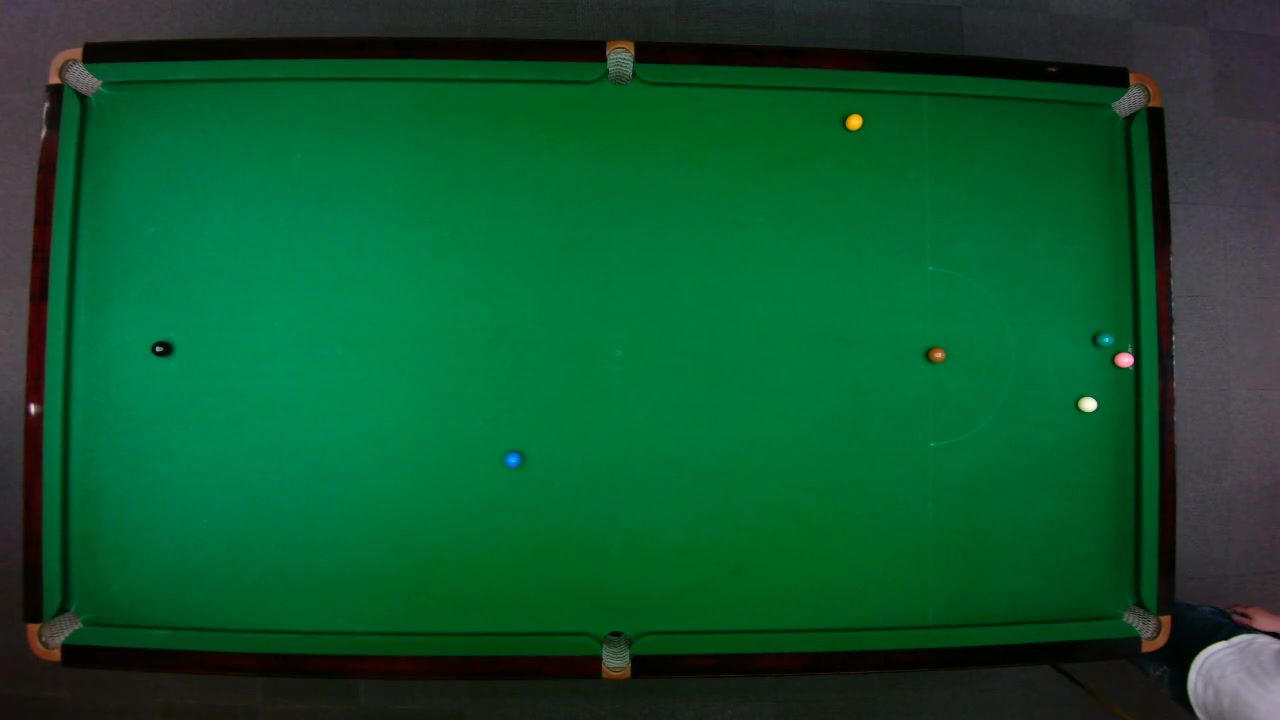bag: (25, 609, 83, 662), (46, 46, 102, 96), (1119, 603, 1171, 652), (1108, 71, 1161, 118), (600, 629, 630, 680), (605, 38, 633, 85)
black: (149, 339, 171, 357)
blue: (503, 450, 522, 468)
brown: (926, 346, 945, 362)
green: (1093, 330, 1114, 347)
pink: (1112, 350, 1135, 368)
white: (1076, 394, 1098, 412)
yellow: (844, 112, 863, 131)
zone: (927, 265, 1014, 445)
